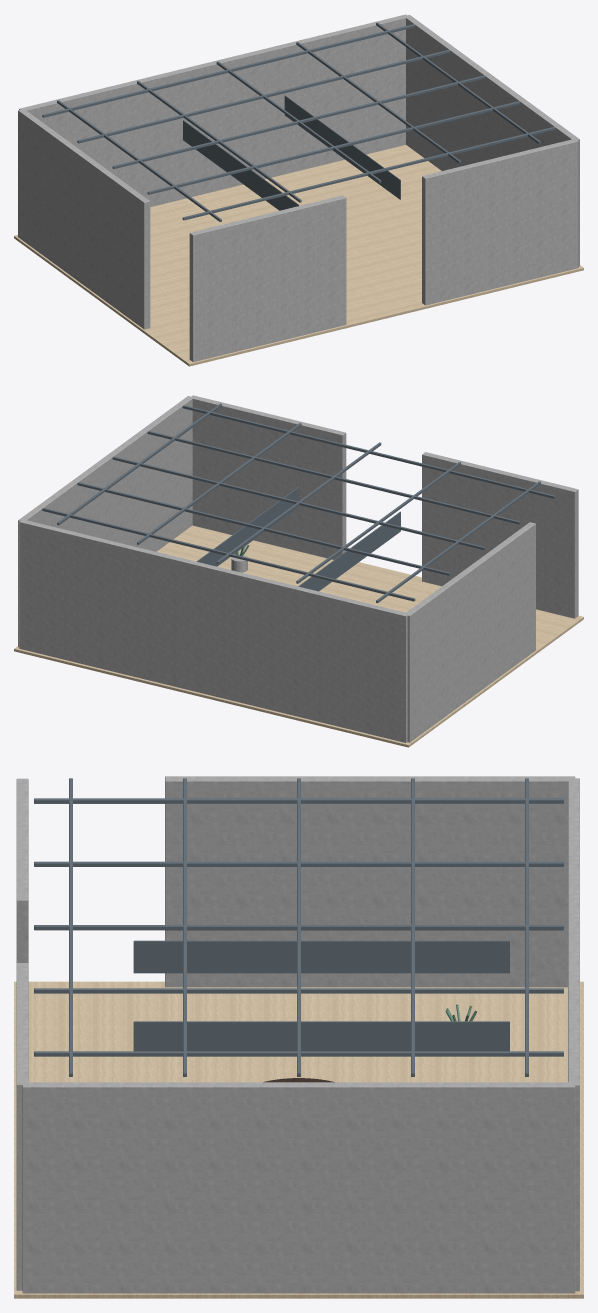
Rendered from modern-lite.glb.
The picture shows the model from 3 angles, top to bottom: view 1: azimuth 30°, elevation 25°; view 2: azimuth 150°, elevation 25°; view 3: azimuth 270°, elevation 25°; orthographic projection. The views are drawn at different scales.
Visible parts, largest first — view 1: North concrete datum, Travertine atrium floor, South concrete return -7.65, South concrete return 7.65, West concrete datum, East concrete datum, Bridge rail -1, Bridge rail 1, Skylight transom 4, Skylight transom 0, Skylight transom -4, Skylight transom 8 (+6 smaller); view 2: North concrete datum, West concrete datum, South concrete return 7.65, South concrete return -7.65, East concrete datum, Travertine atrium floor, Bridge rail -1, Bridge rail 1, Skylight transom -4, Skylight transom -8, Skylight transom 0, Skylight transom 8 (+6 smaller); view 3: East concrete datum, West concrete datum, Travertine atrium floor, Bridge rail -1, Bridge rail 1, North concrete datum, Skylight mullion -10.5, Skylight mullion -5.25, Skylight mullion 0, Skylight mullion 10.5, Skylight mullion 5.25, South concrete return 7.65 (+6 smaller).
Part boxes in pixels (left/top/right/bottom): North concrete datum: left=19, top=14, right=408, bottom=206; Travertine atrium floor: left=14, top=145, right=583, bottom=366; South concrete return -7.65: left=189, top=195, right=346, bottom=362; South concrete return 7.65: left=422, top=139, right=578, bottom=305; West concrete datum: left=18, top=109, right=150, bottom=329; East concrete datum: left=406, top=15, right=579, bottom=266; Bridge rail -1: left=183, top=120, right=299, bottom=210; Bridge rail 1: left=284, top=95, right=400, bottom=199; Skylight transom 4: left=147, top=101, right=520, bottom=194; Skylight transom 0: left=112, top=75, right=485, bottom=168; Skylight transom -4: left=77, top=50, right=450, bottom=143; Skylight transom 8: left=182, top=126, right=555, bottom=220; North concrete datum: left=19, top=519, right=407, bottom=742; West concrete datum: left=404, top=522, right=535, bottom=742; South concrete return 7.65: left=192, top=395, right=346, bottom=559; South concrete return -7.65: left=422, top=452, right=578, bottom=618; East concrete datum: left=18, top=396, right=193, bottom=647; Travertine atrium floor: left=14, top=525, right=583, bottom=747; Bridge rail -1: left=298, top=511, right=400, bottom=591; Bridge rail 1: left=196, top=486, right=299, bottom=566; Skylight transom -4: left=77, top=482, right=450, bottom=575; Skylight transom -8: left=42, top=508, right=415, bottom=601; Skylight transom 0: left=112, top=456, right=485, bottom=549; Skylight transom 8: left=182, top=405, right=555, bottom=498; East concrete datum: left=22, top=1082, right=575, bottom=1293; West concrete datum: left=165, top=776, right=575, bottom=987; Travertine atrium floor: left=14, top=981, right=583, bottom=1298; Bridge rail -1: left=133, top=940, right=509, bottom=973; Bridge rail 1: left=133, top=1021, right=509, bottom=1051; North concrete datum: left=568, top=778, right=579, bottom=1291; Skylight mullion -10.5: left=34, top=798, right=563, bottom=803; Skylight mullion -5.25: left=34, top=861, right=563, bottom=866; Skylight mullion 0: left=34, top=925, right=563, bottom=930; Skylight mullion 10.5: left=34, top=1051, right=563, bottom=1056; Skylight mullion 5.25: left=34, top=988, right=563, bottom=993; South concrete return 7.65: left=16, top=963, right=28, bottom=1290.
Size of the model in its own units: 26 by 8.39 by 20.
Materials: 5 (3 with a texture image).
